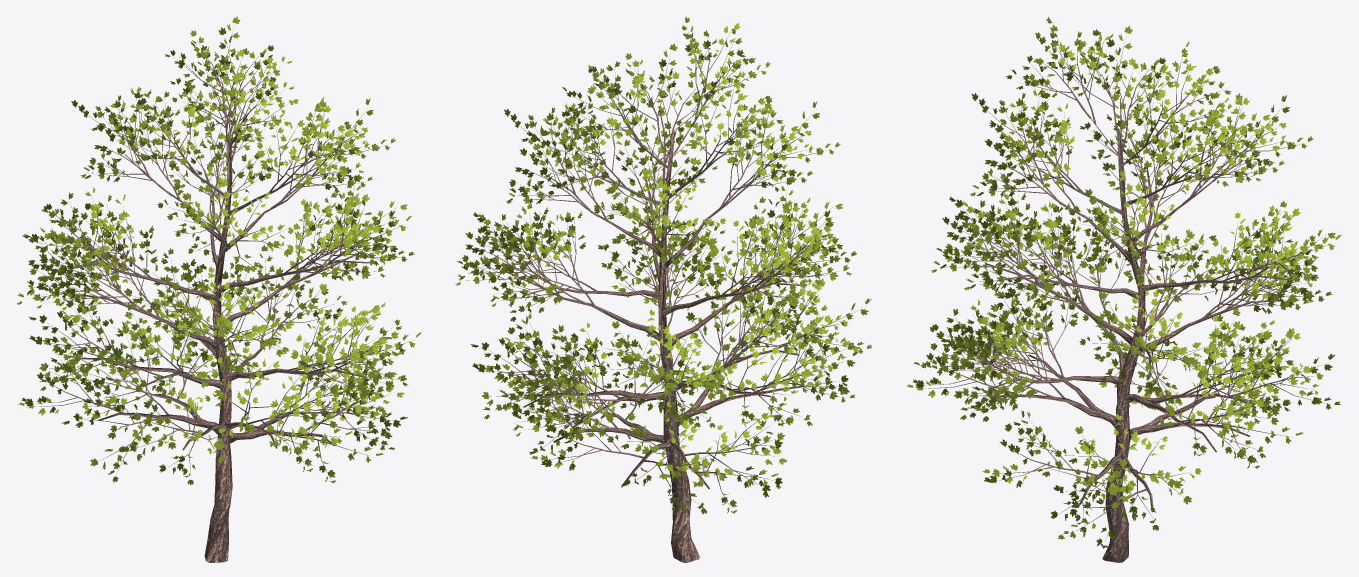
The model's file is maple.fbx.
3 views of the same model, side by side, from view 1: azimuth 30°, elevation 25°; view 2: azimuth 150°, elevation 25°; view 3: azimuth 270°, elevation 25° (orthographic). The views are drawn at different scales.
Parts seen in each view (by area): view 1: Tree_1, Tree_0; view 2: Tree_1, Tree_0; view 3: Tree_1, Tree_0.
Boxes of the visible parts, x1,y1,x2,y2 form: Tree_1: (17,16,421,485); Tree_0: (26,33,407,562); Tree_1: (455,17,871,513); Tree_0: (466,31,862,562); Tree_1: (906,17,1341,548); Tree_0: (916,31,1327,562).
Size of the model in its own units: 293 by 389 by 292.
